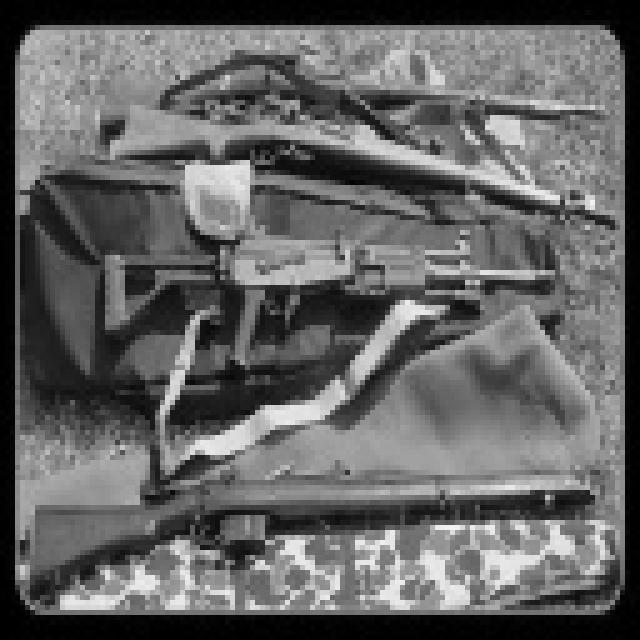Rifle: (59, 212, 576, 478), (1, 449, 630, 626), (90, 0, 640, 160), (101, 103, 640, 248)
